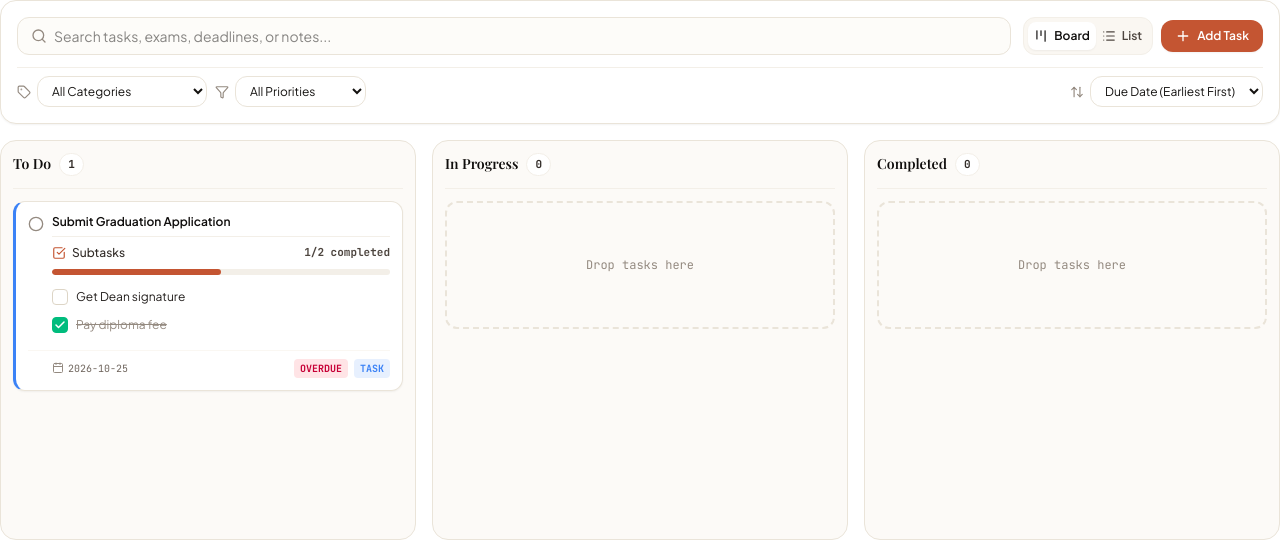
Test: Phase 4C.1: Inline Subtask Completion on Kanban Cards › renders inline subtasks and supports toggling in TaskManagementView board columns
expect the heading "Submit Graduation Application" is shown: met, box [52,214,230,230]
expect the text "1/2 completed" is shown: met, box [304,245,390,260]
# Toggle Dean signature
Click the checkbox named "mark \"get dean signature\" as complete" at [60, 297], box [52,289,68,305]
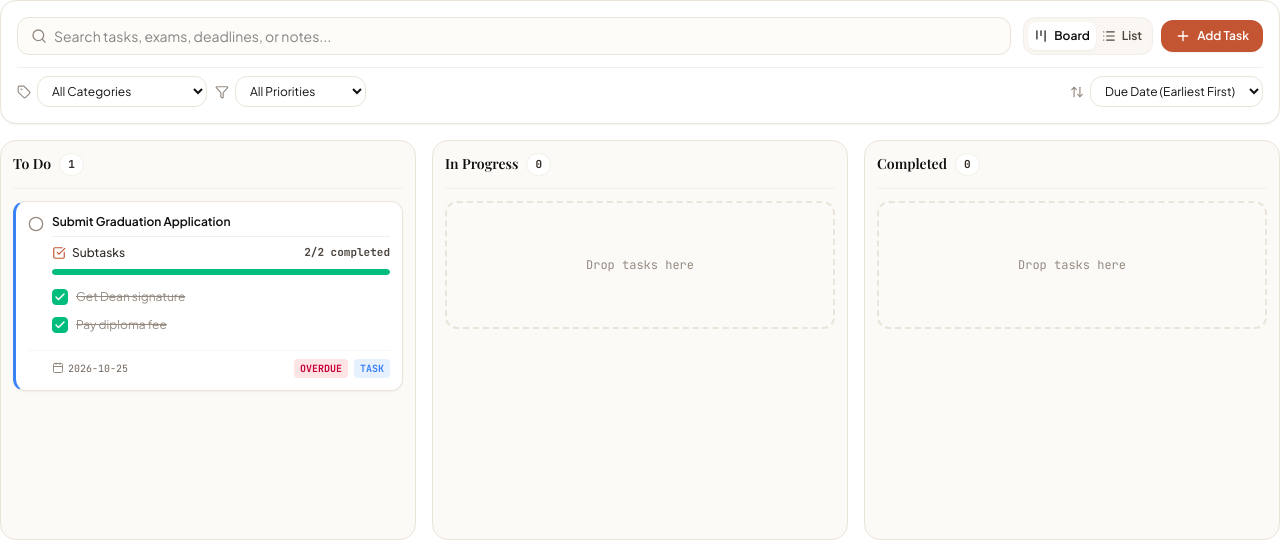
expect the text "2/2 completed" is shown: met, box [304,245,390,260]
